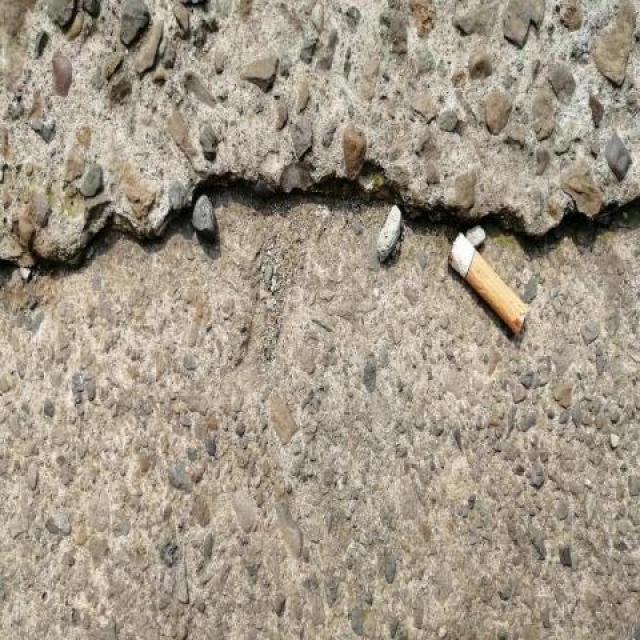non-organic waste: (442, 228, 531, 340)
